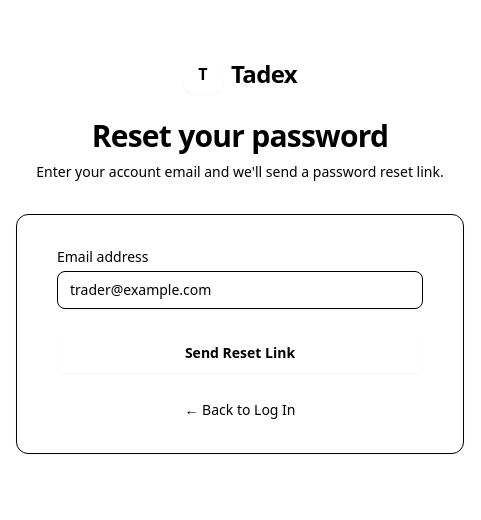
ForgotPasswordPage › handles 429 rate limit error
The image size is (481, 520).
In the field labelled "Email address": (240,290) [57,271,423,309], type "spam@example.com"
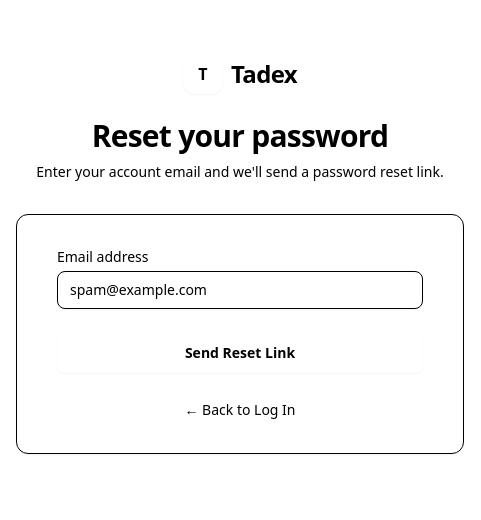
Click the button "Send Reset Link": (240,353) [57,333,423,373]
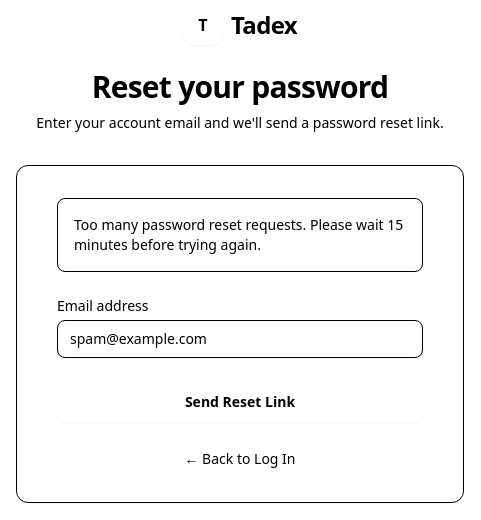
Now the text "Too many password reset requests" is shown, box [74,215,403,254]
